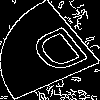D: (25, 25, 100, 84)
